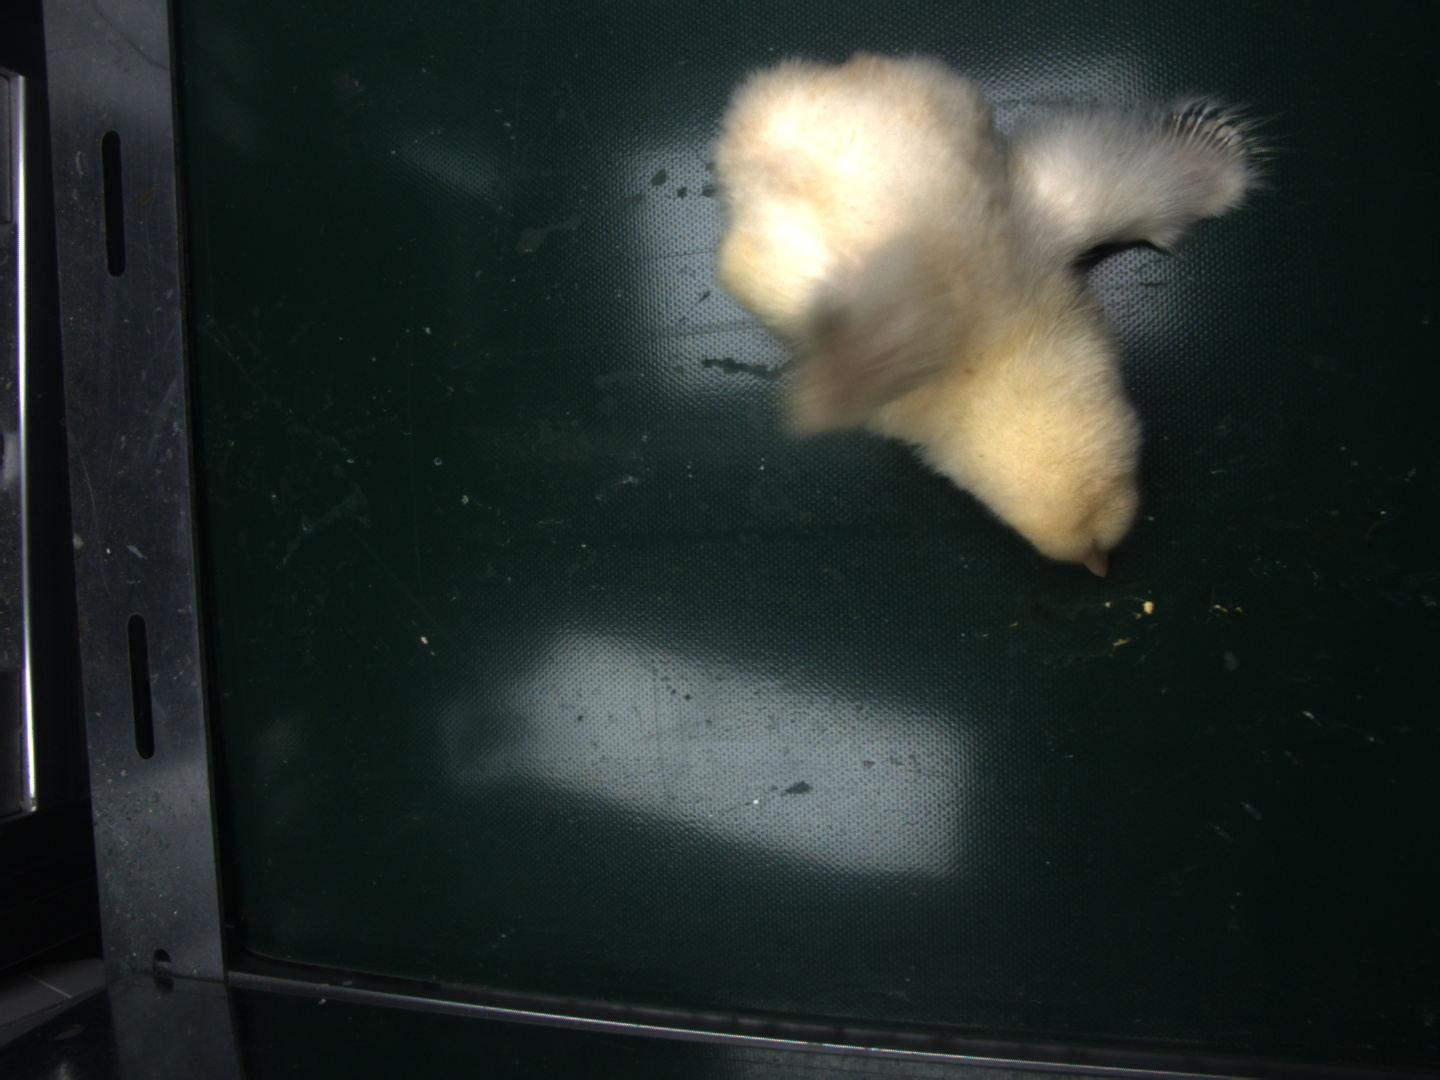male: (1172, 112, 1239, 164)
